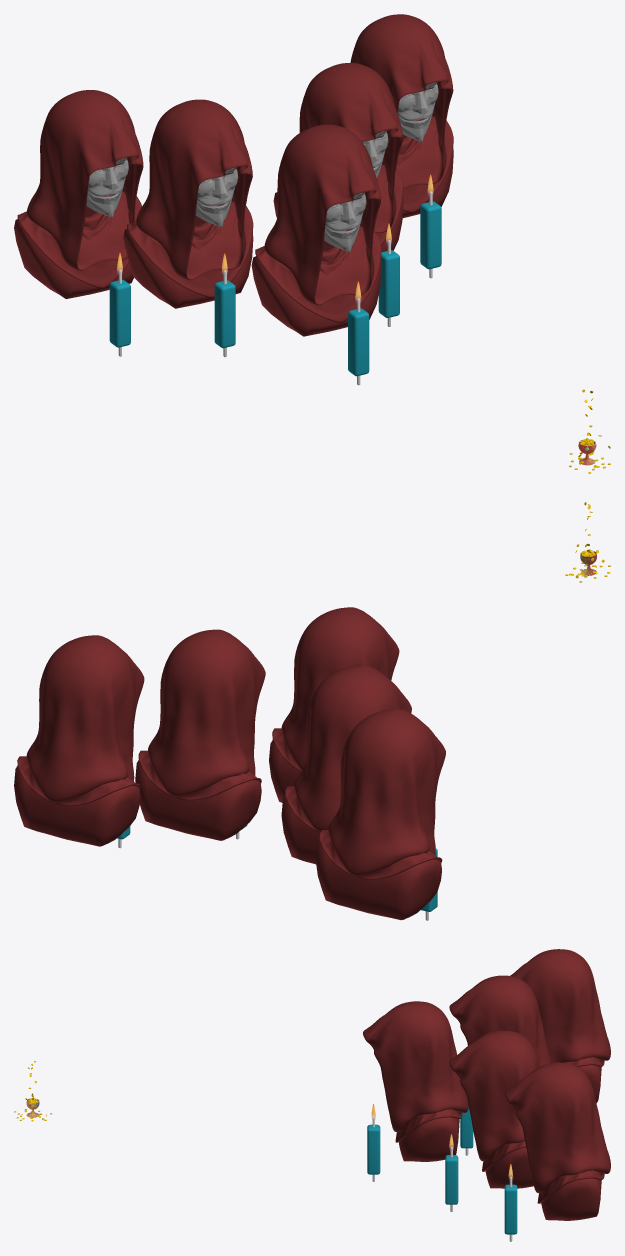
Rendered from holyGrail.glb.
3 views of the same model, one above another, from view 1: azimuth 30°, elevation 25°; view 2: azimuth 150°, elevation 25°; view 3: azimuth 270°, elevation 25° (orthographic). The views are drawn at different scales.
Visible parts, largest first — view 1: fabric5_4_fabric5_4_0.008, fabric5_4_fabric5_4_0.004, fabric5_4_fabric5_4_0.016, fabric5_4_fabric5_4_0.020, fabric5_4_fabric5_4_0.012, fabric5_4_fabric5_4_0.003, fabric5_4_fabric5_4_0.002, fabric5_4_fabric5_4_0.007, fabric5_4_fabric5_4_0.015, fabric5_4_fabric5_4_0.006, fabric5_4_fabric5_4_0.014, Mesh1 Model.001 (+10 smaller); view 2: fabric5_4_fabric5_4_0.012, fabric5_4_fabric5_4_0.020, fabric5_4_fabric5_4_0.016, fabric5_4_fabric5_4_0.008, fabric5_4_fabric5_4_0.004, fabric5_4_fabric5_4_0.014, fabric5_4_fabric5_4_0.018, fabric5_4_fabric5_4_0.010, fabric5_4_fabric5_4_0.006, fabric5_4_fabric5_4_0.011, fabric5_4_fabric5_4_0.019, fabric5_4_fabric5_4_0.015 (+1 smaller); view 3: fabric5_4_fabric5_4_0.020, fabric5_4_fabric5_4_0.004, fabric5_4_fabric5_4_0.016, fabric5_4_fabric5_4_0.012, fabric5_4_fabric5_4_0.008, fabric5_4_fabric5_4_0.002, fabric5_4_fabric5_4_0.018, fabric5_4_fabric5_4_0.010, XBase.001, XBase.004, XBase.002, fabric5_4_fabric5_4_0.003 (+4 smaller).
Boxes of the visible parts, x1=… form: fabric5_4_fabric5_4_0.008: x1=136, y1=99, x2=252, y2=280; fabric5_4_fabric5_4_0.004: x1=264, y1=124, x2=380, y2=305; fabric5_4_fabric5_4_0.016: x1=27, y1=90, x2=143, y2=270; fabric5_4_fabric5_4_0.020: x1=350, y1=14, x2=453, y2=188; fabric5_4_fabric5_4_0.012: x1=299, y1=63, x2=402, y2=233; fabric5_4_fabric5_4_0.003: x1=255, y1=227, x2=381, y2=322; fabric5_4_fabric5_4_0.002: x1=251, y1=256, x2=381, y2=336; fabric5_4_fabric5_4_0.007: x1=127, y1=201, x2=253, y2=297; fabric5_4_fabric5_4_0.015: x1=17, y1=192, x2=141, y2=288; fabric5_4_fabric5_4_0.006: x1=123, y1=229, x2=253, y2=308; fabric5_4_fabric5_4_0.014: x1=14, y1=219, x2=133, y2=298; Mesh1 Model.001: x1=196, y1=167, x2=238, y2=227; fabric5_4_fabric5_4_0.012: x1=148, y1=629, x2=265, y2=797; fabric5_4_fabric5_4_0.020: x1=26, y1=635, x2=144, y2=802; fabric5_4_fabric5_4_0.016: x1=328, y1=709, x2=445, y2=876; fabric5_4_fabric5_4_0.008: x1=294, y1=665, x2=411, y2=831; fabric5_4_fabric5_4_0.004: x1=281, y1=607, x2=399, y2=770; fabric5_4_fabric5_4_0.014: x1=315, y1=839, x2=441, y2=920; fabric5_4_fabric5_4_0.018: x1=14, y1=766, x2=140, y2=846; fabric5_4_fabric5_4_0.010: x1=135, y1=760, x2=261, y2=840; fabric5_4_fabric5_4_0.006: x1=281, y1=796, x2=319, y2=864; fabric5_4_fabric5_4_0.011: x1=138, y1=750, x2=261, y2=800; fabric5_4_fabric5_4_0.019: x1=17, y1=756, x2=140, y2=806; fabric5_4_fabric5_4_0.015: x1=319, y1=829, x2=442, y2=879; fabric5_4_fabric5_4_0.020: x1=505, y1=1062, x2=610, y2=1193; fabric5_4_fabric5_4_0.004: x1=363, y1=1001, x2=468, y2=1132; fabric5_4_fabric5_4_0.016: x1=510, y1=949, x2=610, y2=1062; fabric5_4_fabric5_4_0.012: x1=449, y1=1030, x2=539, y2=1161; fabric5_4_fabric5_4_0.008: x1=449, y1=975, x2=551, y2=1066; fabric5_4_fabric5_4_0.002: x1=399, y1=1117, x2=459, y2=1161; fabric5_4_fabric5_4_0.018: x1=541, y1=1178, x2=601, y2=1220; fabric5_4_fabric5_4_0.010: x1=485, y1=1147, x2=533, y2=1188; XBase.001: x1=367, y1=1124, x2=380, y2=1174; XBase.004: x1=504, y1=1184, x2=517, y2=1234; XBase.002: x1=445, y1=1155, x2=458, y2=1204; fabric5_4_fabric5_4_0.003: x1=395, y1=1109, x2=462, y2=1142.
Bounding box in the file's own units: 147 × 77.31 × 237.
9 materials, 2 textured.
